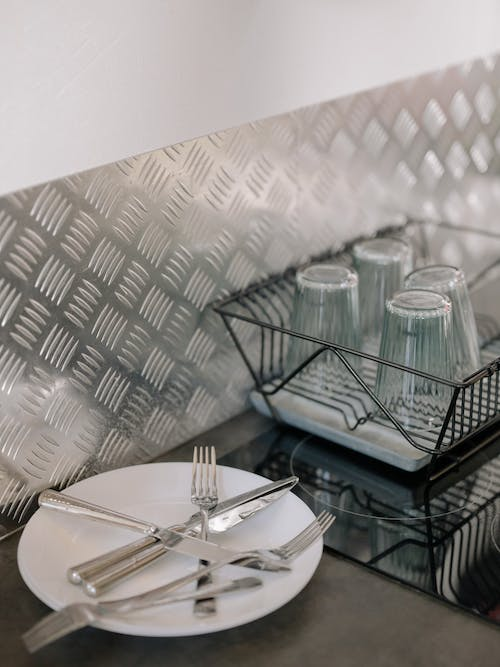knife: (77, 476, 300, 600), (67, 472, 300, 587), (36, 484, 293, 575)
